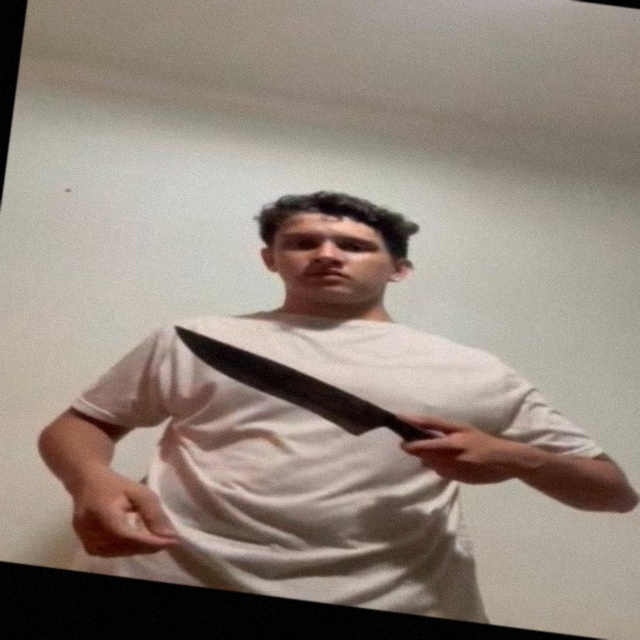Sharp-Object: (162, 322, 405, 439)
